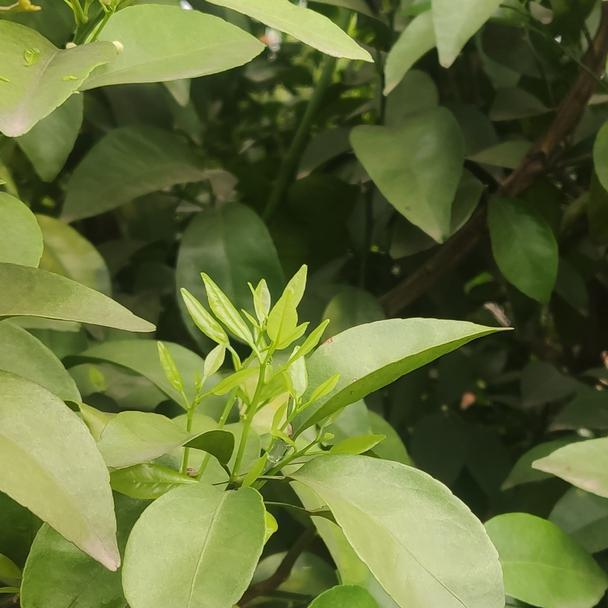shoot: (205, 305, 320, 466), (147, 346, 246, 453)
